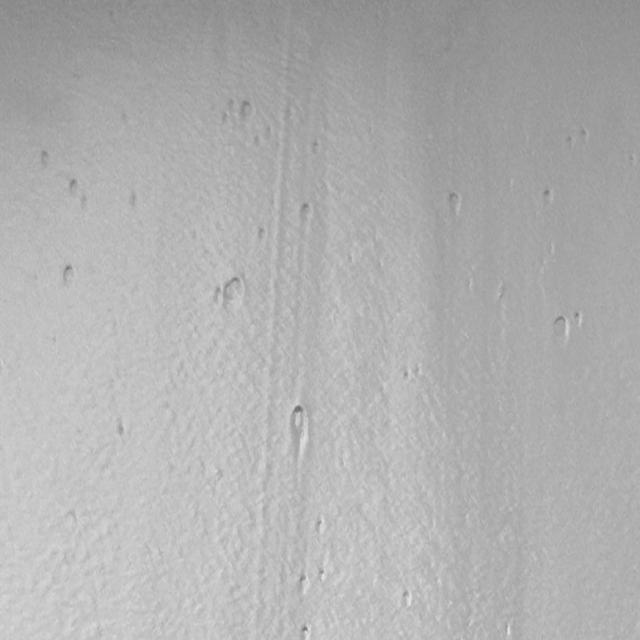pin holes: (285, 406, 310, 450), (221, 272, 249, 310), (551, 313, 572, 345), (444, 189, 465, 219), (60, 262, 80, 289), (296, 201, 315, 228), (238, 100, 257, 124), (114, 417, 132, 442), (37, 148, 56, 171), (397, 588, 415, 610), (294, 572, 310, 596), (65, 178, 81, 201), (212, 284, 226, 309), (540, 188, 556, 208), (127, 190, 141, 211), (313, 517, 327, 535), (626, 151, 638, 172), (565, 132, 578, 151), (574, 308, 586, 328), (579, 127, 592, 145), (299, 622, 313, 638), (309, 138, 321, 156), (256, 227, 269, 243), (316, 569, 328, 586)
